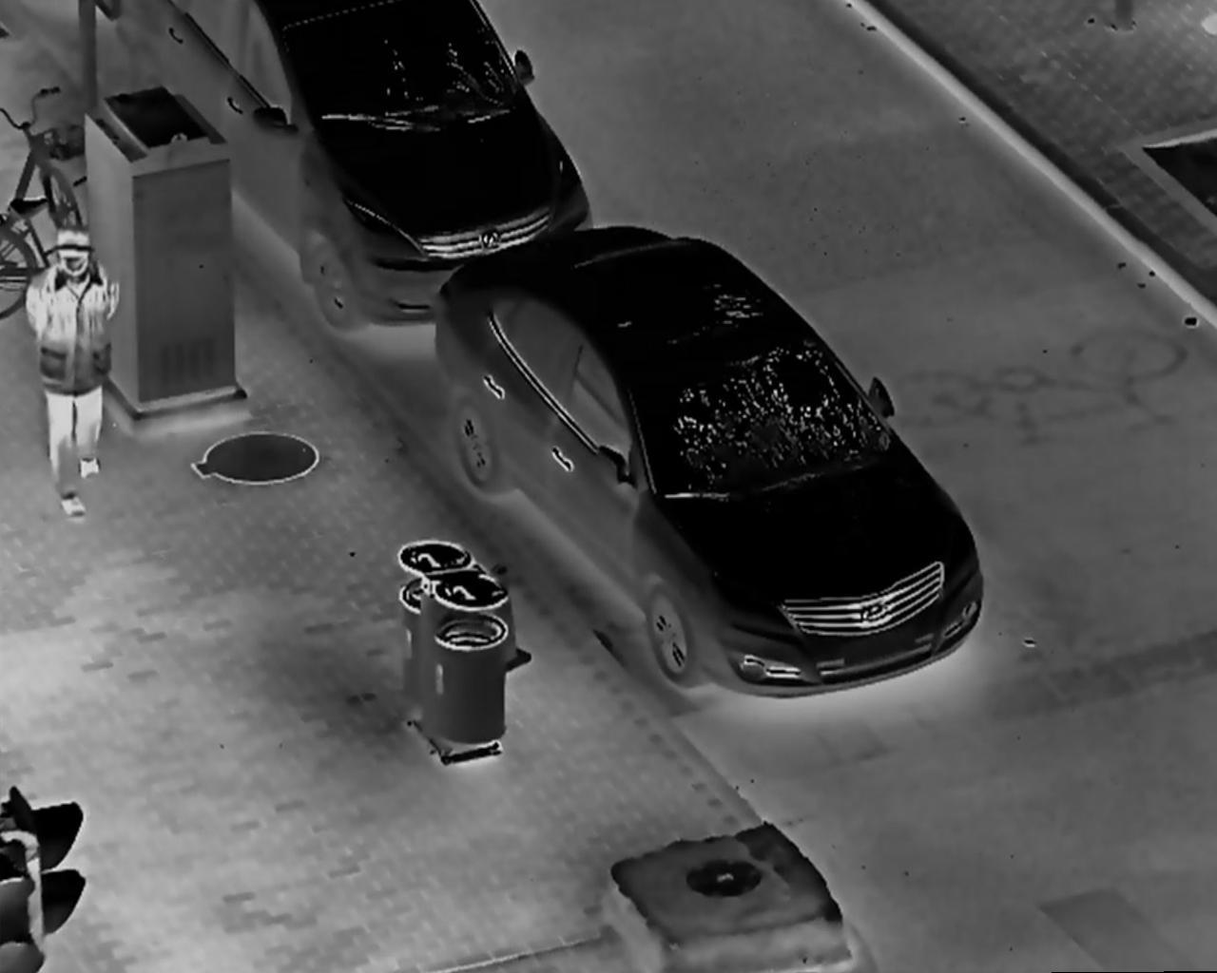person: (16, 210, 124, 531)
